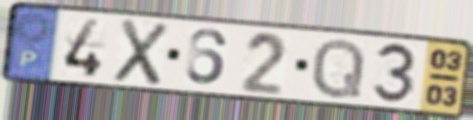2: (238, 30, 291, 97)
3: (368, 40, 420, 107)
4: (60, 16, 105, 79)
6: (185, 27, 231, 88)
Q: (308, 36, 368, 101)
X: (111, 16, 172, 88)
